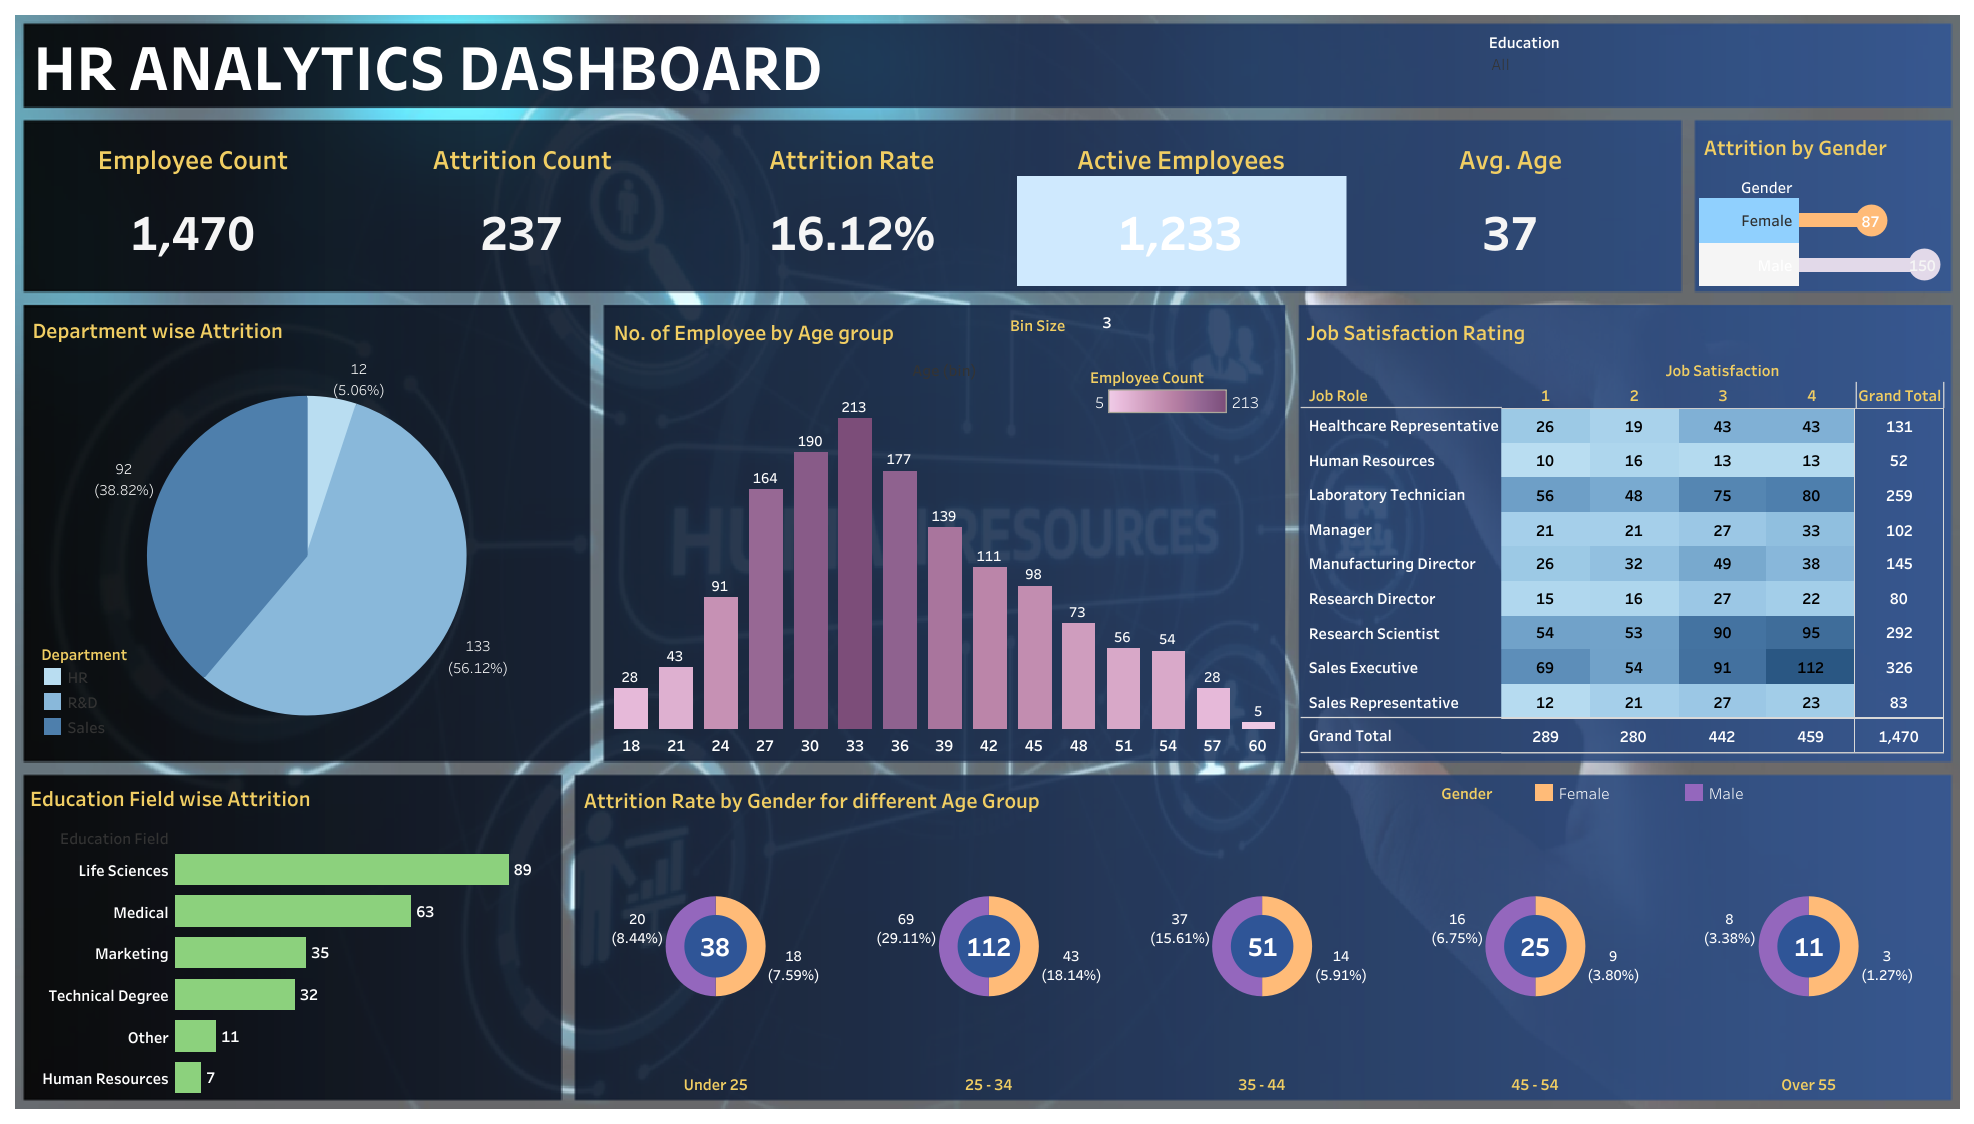

Layout of this report page (visuals, bound fields, positions):
{"tool":"tableau","page":{"name":"Dashboard 1","canvas":[1580,900],"ordinal":0},"visuals":[{"type":"image","param":"Image/HR background.pptx.png","box":[8,8,1564,884]},{"type":"text","box":[24,22,1528,60]},{"type":"filter","title":"Job Satisfaction Rating","param":"[federated.1ocvijn0f3w0p51cymq6h1iacksx].[none:Education:nk]","box":[1191,23,160,61]},{"type":"worksheet","title":"Attrition by Gender","mark":"Automatic","rows":["Gender"],"cols":["Calculation_0765000934780928","Calculation_0765000934780928"],"box":[1359,100,198,129]},{"type":"worksheet","title":"KPI","mark":"Automatic","box":[23,101,1317,128]},{"type":"worksheet","title":"Department wise Attrition","mark":"Pie","box":[22,246,446,359]},{"type":"worksheet","title":"No. of Employee by Age group","mark":"Automatic","rows":["Employee Count"],"cols":["Age (bin)"],"box":[487,248,537,357]},{"type":"parameter","param":"[Parameters].[Parameter 1]","box":[808,248,215,23]},{"type":"worksheet","title":"Job Satisfaction Rating","mark":"Square","rows":["Job Role"],"cols":["Job Satisfaction"],"box":[1041,248,516,355]},{"type":"legend","title":"No. of Employee by Age group","param":"[federated.1ocvijn0f3w0p51cymq6h1iacksx].[sum:Employee Count:qk]","box":[872,288,140,53]},{"type":"legend","title":"Department wise Attrition","param":"[federated.1ocvijn0f3w0p51cymq6h1iacksx].[none:Department:nk]","box":[32,512,91,93]},{"type":"worksheet","title":"Education Field wise Attrition","mark":"Automatic","rows":["Education Field"],"cols":["Calculation_0765000934780928"],"box":[20,621,426,257]},{"type":"worksheet","title":"Attrition Rate by Gender for different Age Group","mark":"Pie","rows":["Calculation_0871106244997121","Calculation_0871106244997121"],"cols":["CF_age band"],"box":[463,622,1093,254]},{"type":"legend","title":"Attrition Rate by Gender for different Age Group","param":"[federated.1ocvijn0f3w0p51cymq6h1iacksx].[none:Gender:nk]","box":[1153,624,401,28]}]}

Visuals, with their boxes in screenshot pixels (x1, y1, x2, y2), scaled from the page's 1580x900 canvas onto the 1974x1124 screenshot:
image: bbox=[10, 10, 1964, 1114]
text: bbox=[30, 27, 1939, 102]
"Job Satisfaction Rating" filter: bbox=[1488, 29, 1688, 105]
"Attrition by Gender" worksheet: bbox=[1698, 125, 1945, 286]
"KPI" worksheet: bbox=[29, 126, 1674, 286]
"Department wise Attrition" worksheet (Pie marks): bbox=[27, 307, 585, 756]
"No. of Employee by Age group" worksheet: bbox=[608, 310, 1279, 756]
parameter: bbox=[1009, 310, 1278, 338]
"Job Satisfaction Rating" worksheet (Square marks): bbox=[1301, 310, 1945, 753]
"No. of Employee by Age group" legend: bbox=[1089, 360, 1264, 426]
"Department wise Attrition" legend: bbox=[40, 639, 154, 756]
"Education Field wise Attrition" worksheet: bbox=[25, 776, 557, 1097]
"Attrition Rate by Gender for different Age Group" worksheet (Pie marks): bbox=[578, 777, 1944, 1094]
"Attrition Rate by Gender for different Age Group" legend: bbox=[1441, 779, 1942, 814]
